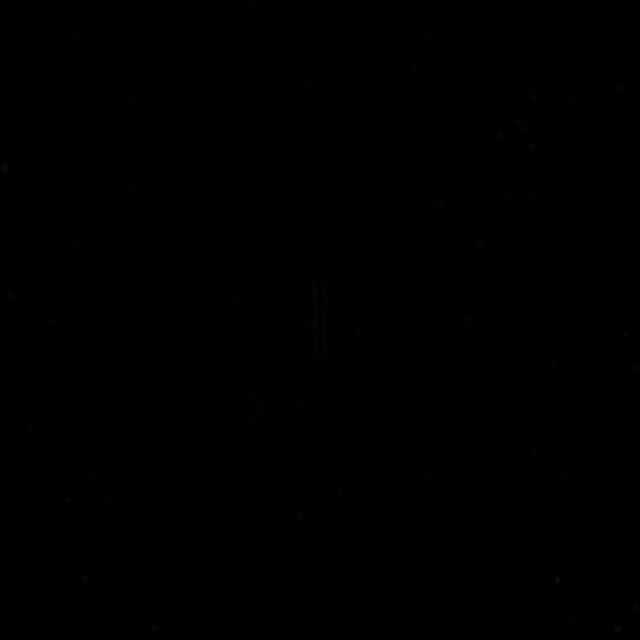medium_debris: (273, 261, 367, 355)
